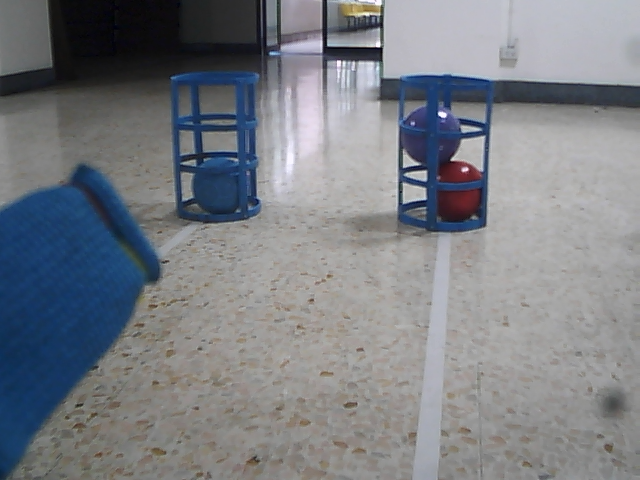Blue ball: (191, 156, 244, 215)
Cyro: (393, 74, 494, 233), (167, 67, 265, 225)
Purple ball: (403, 105, 462, 167)
Red ball: (431, 160, 483, 223)
